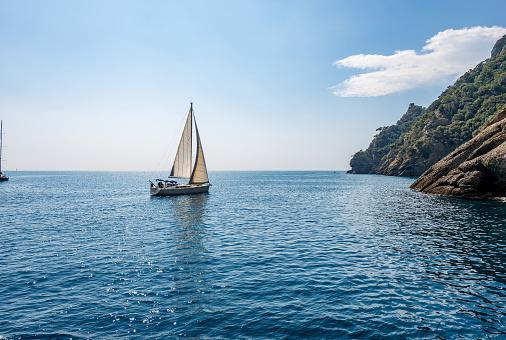Ship: (151, 104, 211, 197)
